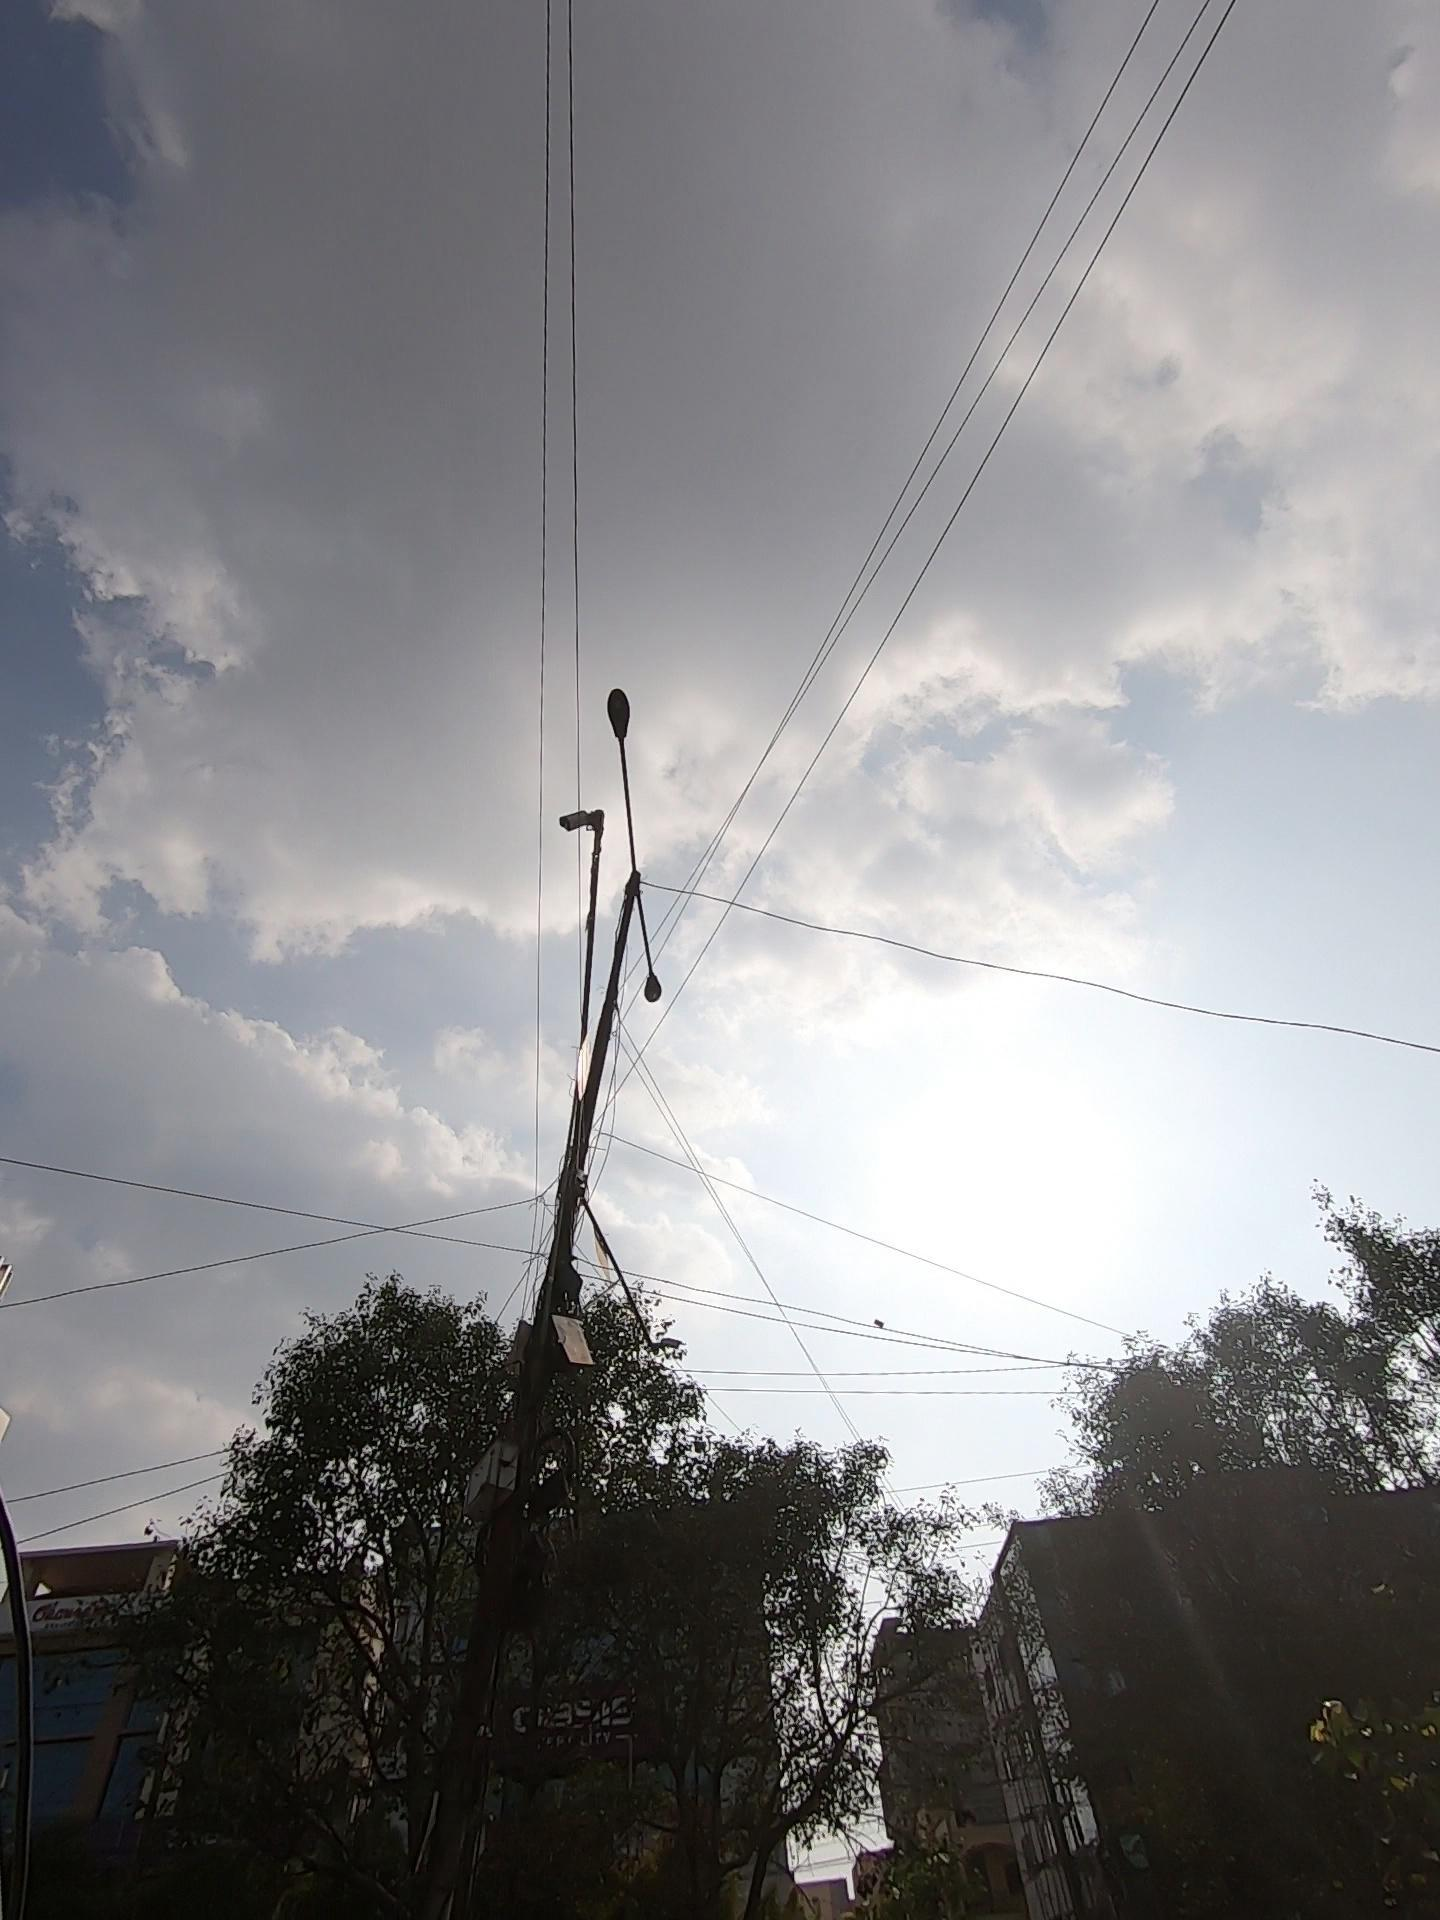off: (540, 596, 784, 1096)
